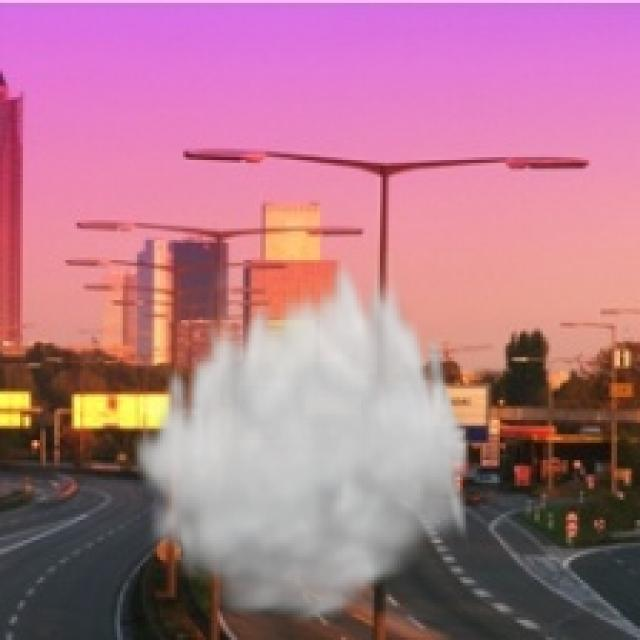Smoke: (128, 248, 474, 628)
